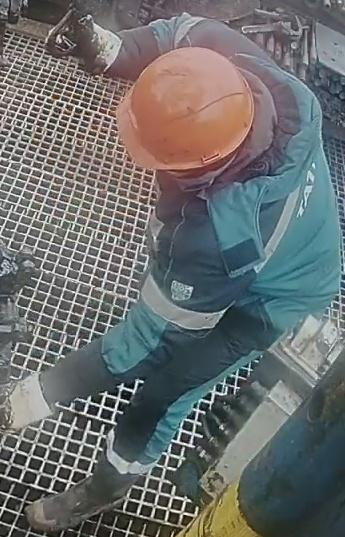gloves: (44, 8, 123, 75), (0, 369, 60, 432)
helmet: (115, 45, 254, 172)
vest: (142, 16, 341, 330)
